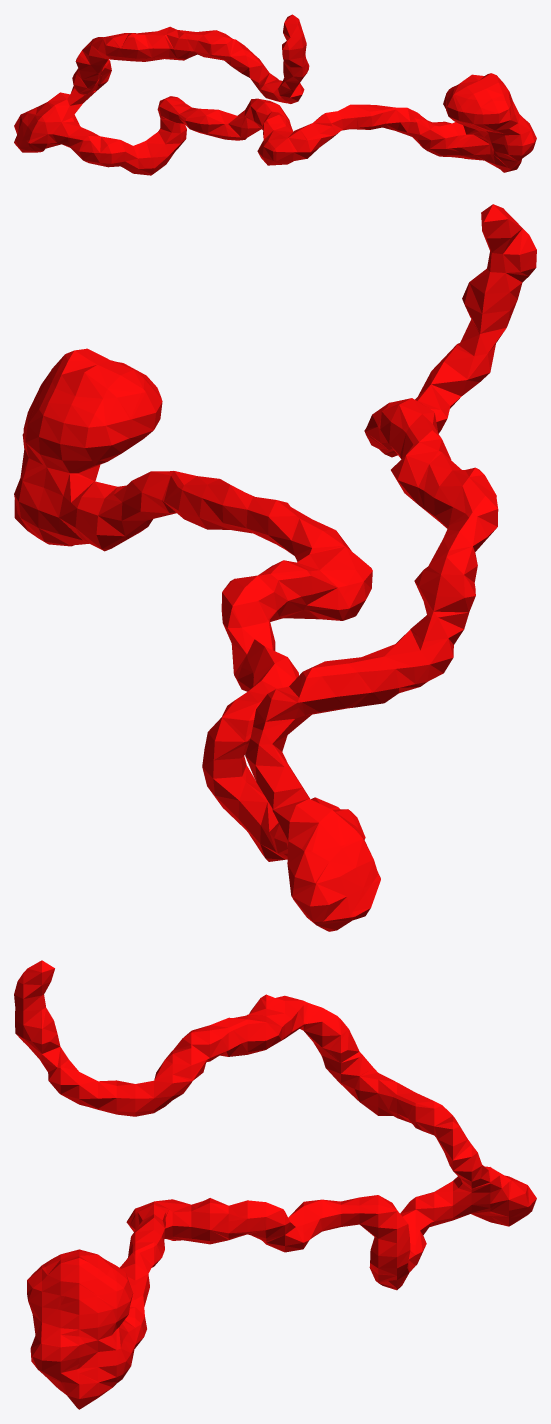
Rendered from rseA_coarse.dae.
3 views of the same model, one above another, from view 1: azimuth 30°, elevation 25°; view 2: azimuth 150°, elevation 25°; view 3: azimuth 270°, elevation 25° (orthographic). The views are drawn at different scales.
Parts seen in each view (by area): view 1: rseA; view 2: rseA; view 3: rseA.
Boxes of the visible parts, <box> form: rseA: <box>14,14,536,175</box>; rseA: <box>14,204,536,931</box>; rseA: <box>14,960,536,1409</box>.
Bounding box in the file's own units: 143 × 100 × 140.
